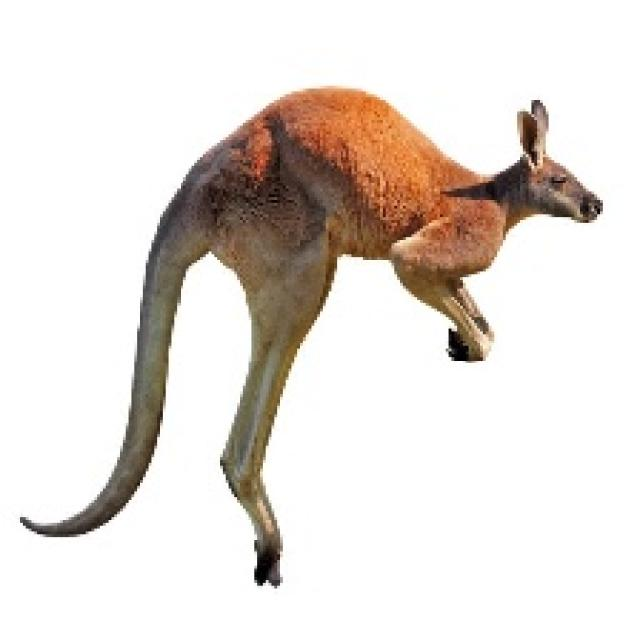animal: (16, 38, 602, 589)
